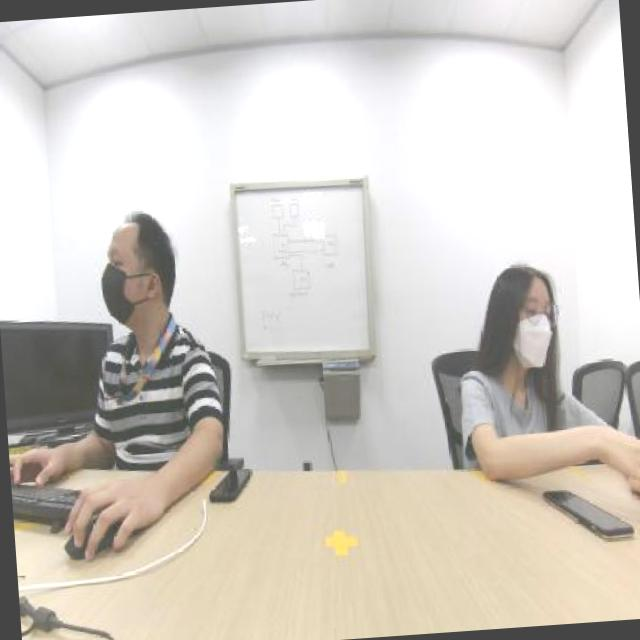Person: (58, 158, 260, 464), (427, 197, 618, 461)
